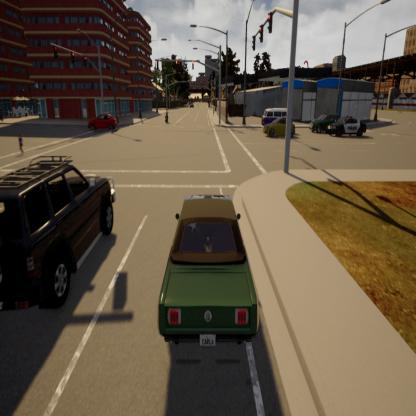Cars: (0, 160, 114, 305), (158, 196, 258, 347), (329, 117, 367, 139), (264, 118, 297, 140), (310, 113, 340, 134), (262, 108, 292, 126), (89, 114, 118, 131), (164, 109, 169, 124)
Pedestrian: (18, 134, 25, 155), (0, 107, 4, 124)
